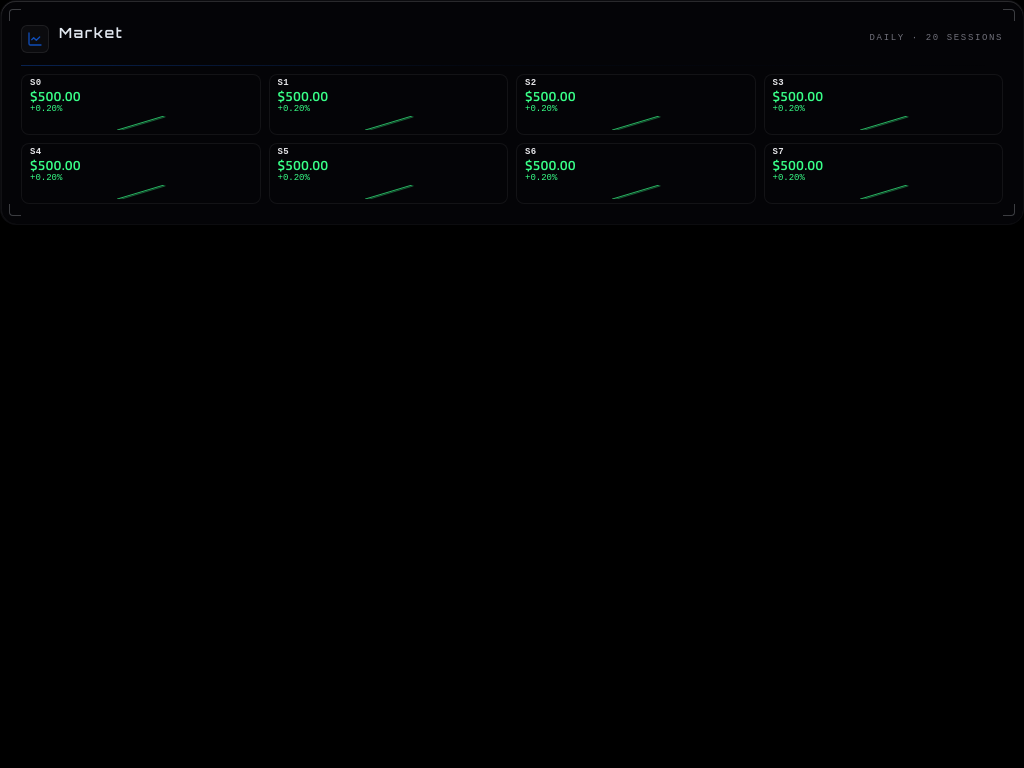
Test: MarketTickerCard › renders all eight cells and accessible daily-close detail
Focus the button "S0 $500.00 +0.20%" at (141, 104), box [21, 74, 260, 135]
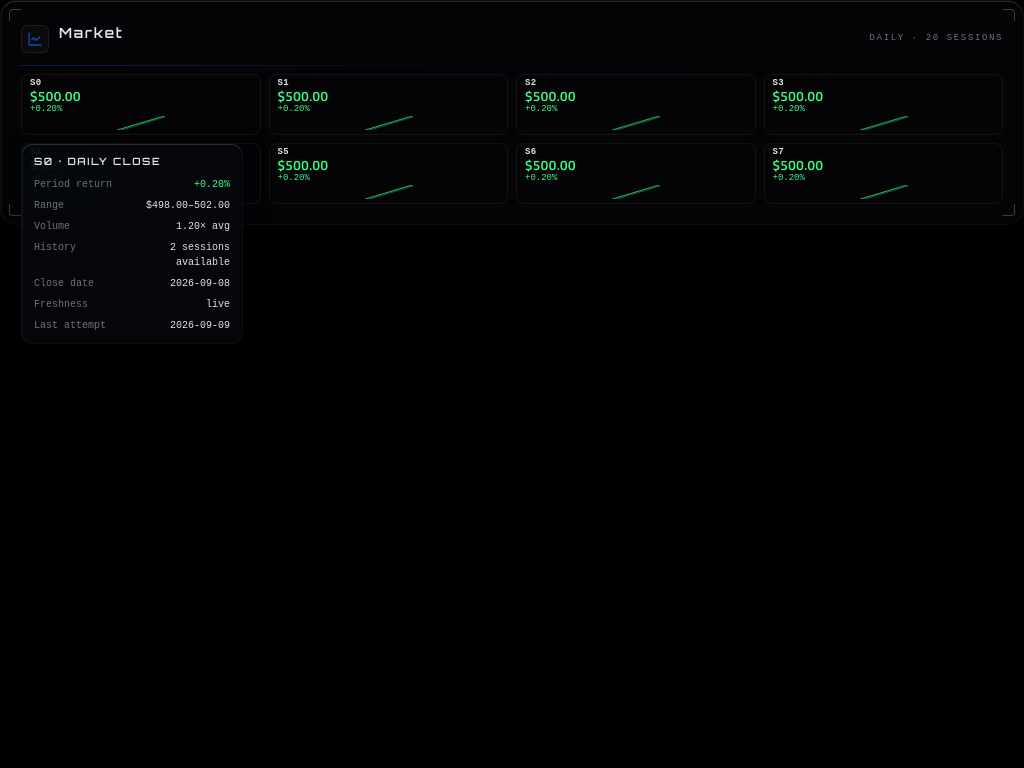
Now the tooltip shows "Period return", box [34, 179, 112, 190]
Now the tooltip shows "Close date", box [34, 278, 94, 289]
Now the tooltip shows "2 sessions available", box [21, 143, 243, 344]
Press Escape
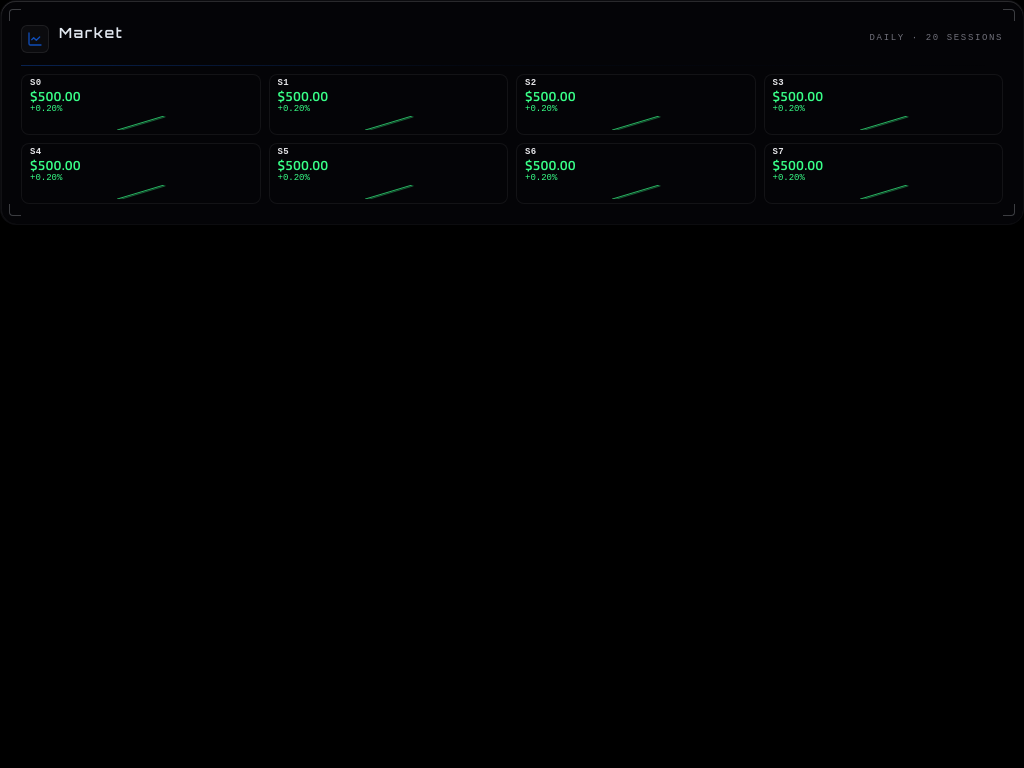
Now the tooltip is gone
Hover over the button "S0 $500.00 +0.20%" at (141, 104), box [21, 74, 260, 135]
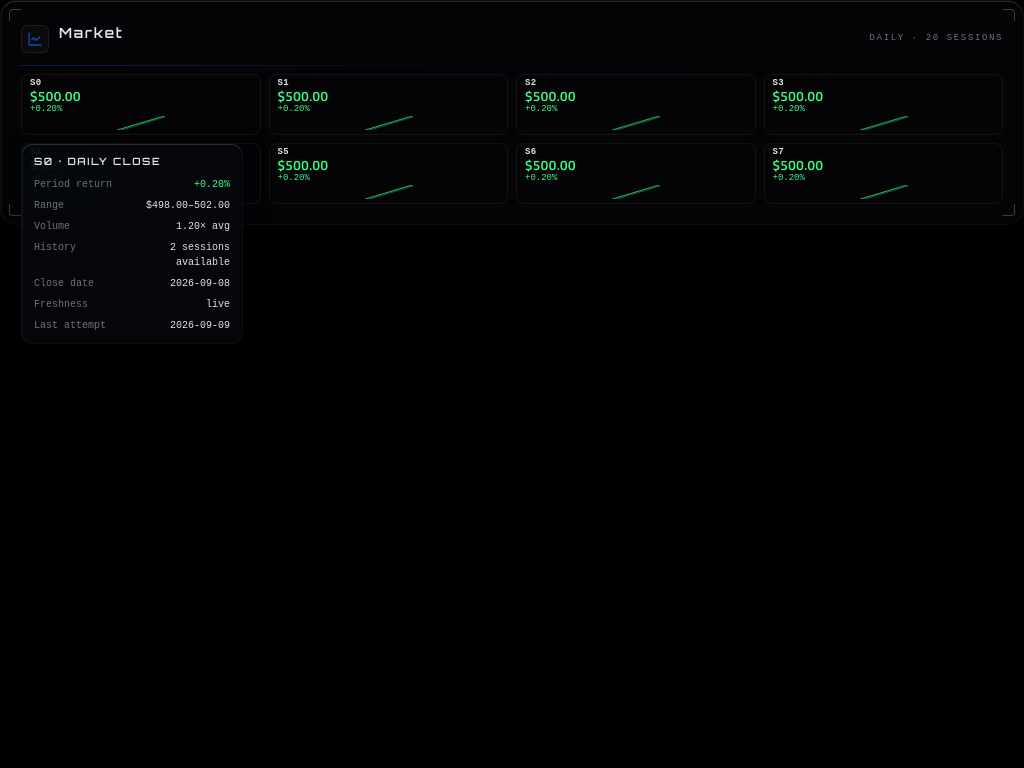
Now the tooltip is shown, box [21, 143, 243, 344]
Press the mouse on the element that starts with "Market" at (512, 384), box [0, 0, 1023, 767]
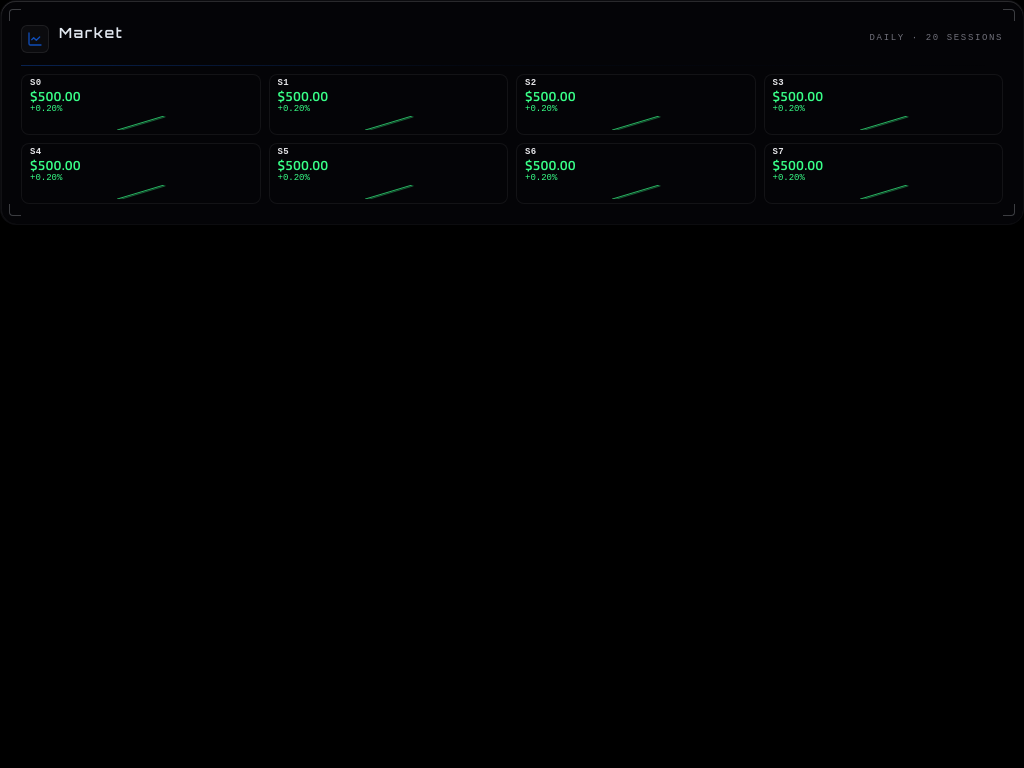
Now the tooltip is gone
